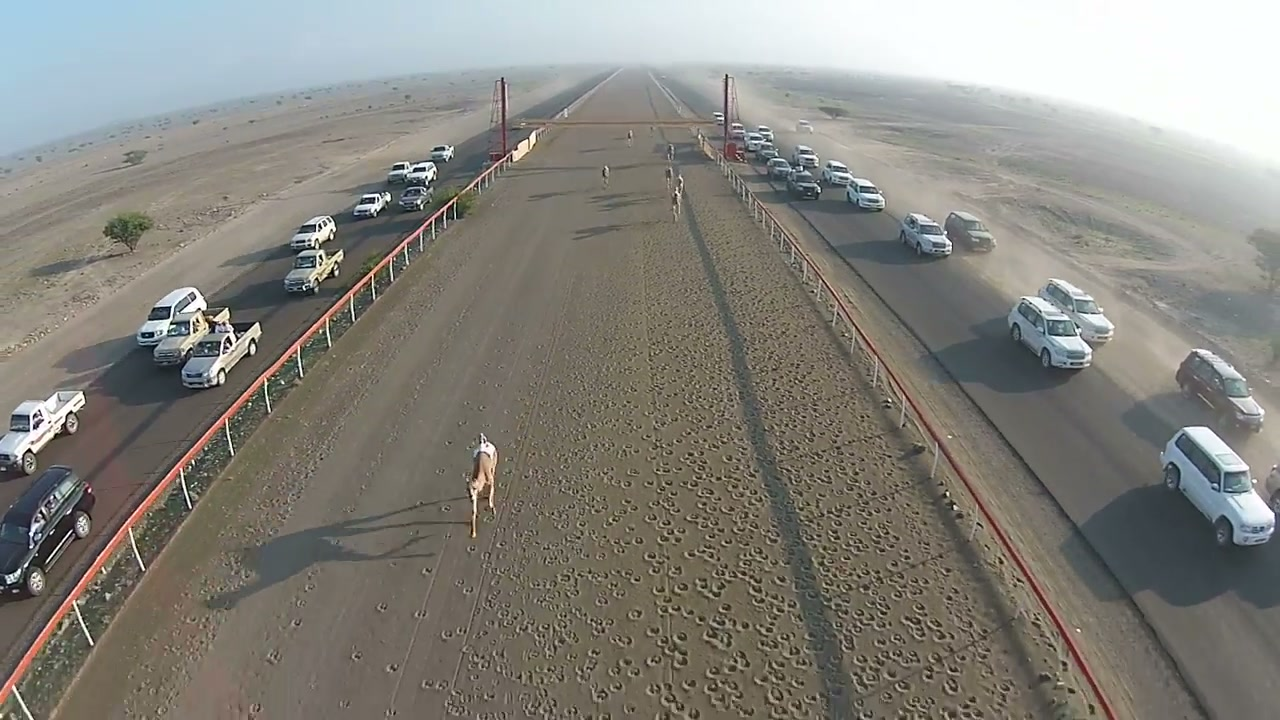animal_foot_print: (449, 266, 680, 719), (771, 293, 988, 719), (662, 224, 799, 693), (217, 402, 417, 708), (337, 524, 451, 715)
